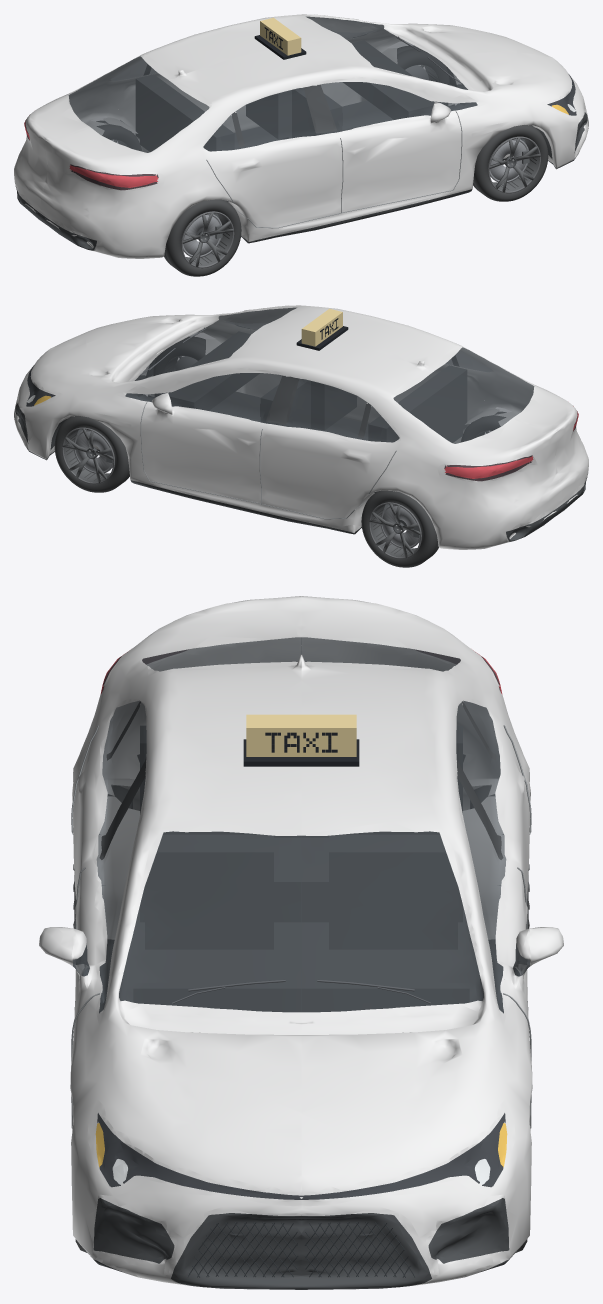
The picture shows the model from 3 angles, top to bottom: view 1: azimuth 30°, elevation 25°; view 2: azimuth 150°, elevation 25°; view 3: azimuth 270°, elevation 25°; orthographic projection. The views are drawn at different scales.
Visible parts, largest first — view 1: body_shell, side_windows, rear_window, wheel_rear_right, wheel_front_right, windshield, interior_rear_back, interior_dashboard, lower_trim, interior_front_left_back, interior_floor, window_frames (+8 smaller); view 2: body_shell, side_windows, rear_window, wheel_rear_left, wheel_front_left, windshield, interior_rear_back, interior_dashboard, lower_trim, interior_front_right_back, interior_floor, window_frames (+8 smaller); view 3: body_shell, windshield, lower_trim, interior_dashboard, side_windows, interior_front_left_back, interior_front_right_back, rear_window, headlight_housings, interior_rear_bench, taxi_roof_sign, grille_fine_mesh (+6 smaller).
Boxes of the visible parts, bbox=[...] form: body_shell: bbox=[14, 14, 588, 258]; side_windows: bbox=[111, 30, 477, 151]; rear_window: bbox=[68, 56, 209, 152]; wheel_rear_right: bbox=[164, 199, 241, 276]; wheel_front_right: bbox=[473, 125, 548, 201]; windshield: bbox=[306, 16, 467, 89]; interior_rear_back: bbox=[136, 74, 234, 151]; interior_dashboard: bbox=[343, 40, 447, 119]; lower_trim: bbox=[15, 66, 588, 250]; interior_front_left_back: bbox=[246, 90, 291, 139]; interior_floor: bbox=[196, 101, 393, 235]; window_frames: bbox=[144, 64, 337, 147]; body_shell: bbox=[14, 305, 588, 549]; side_windows: bbox=[125, 321, 491, 442]; rear_window: bbox=[393, 347, 534, 443]; wheel_rear_left: bbox=[361, 490, 438, 567]; wheel_front_left: bbox=[54, 416, 129, 492]; windshield: bbox=[135, 307, 296, 380]; interior_rear_back: bbox=[368, 365, 466, 442]; interior_dashboard: bbox=[155, 331, 259, 410]; lower_trim: bbox=[14, 357, 587, 541]; interior_front_right_back: bbox=[311, 381, 356, 430]; interior_floor: bbox=[209, 392, 406, 526]; window_frames: bbox=[265, 355, 458, 438]; body_shell: bbox=[70, 596, 532, 1289]; windshield: bbox=[119, 831, 483, 1012]; lower_trim: bbox=[81, 754, 521, 1289]; interior_dashboard: bbox=[133, 950, 469, 1011]; side_windows: bbox=[73, 701, 529, 1013]; interior_front_left_back: bbox=[329, 835, 457, 949]; interior_front_right_back: bbox=[145, 835, 273, 949]; rear_window: bbox=[142, 637, 460, 671]; headlight_housings: bbox=[97, 1113, 505, 1199]; interior_rear_bench: bbox=[140, 838, 462, 921]; taxi_roof_sign: bbox=[246, 714, 356, 756]; grille_fine_mesh: bbox=[187, 1222, 415, 1277].
Size of the model in its own units: 4.59 by 1.48 by 2.
